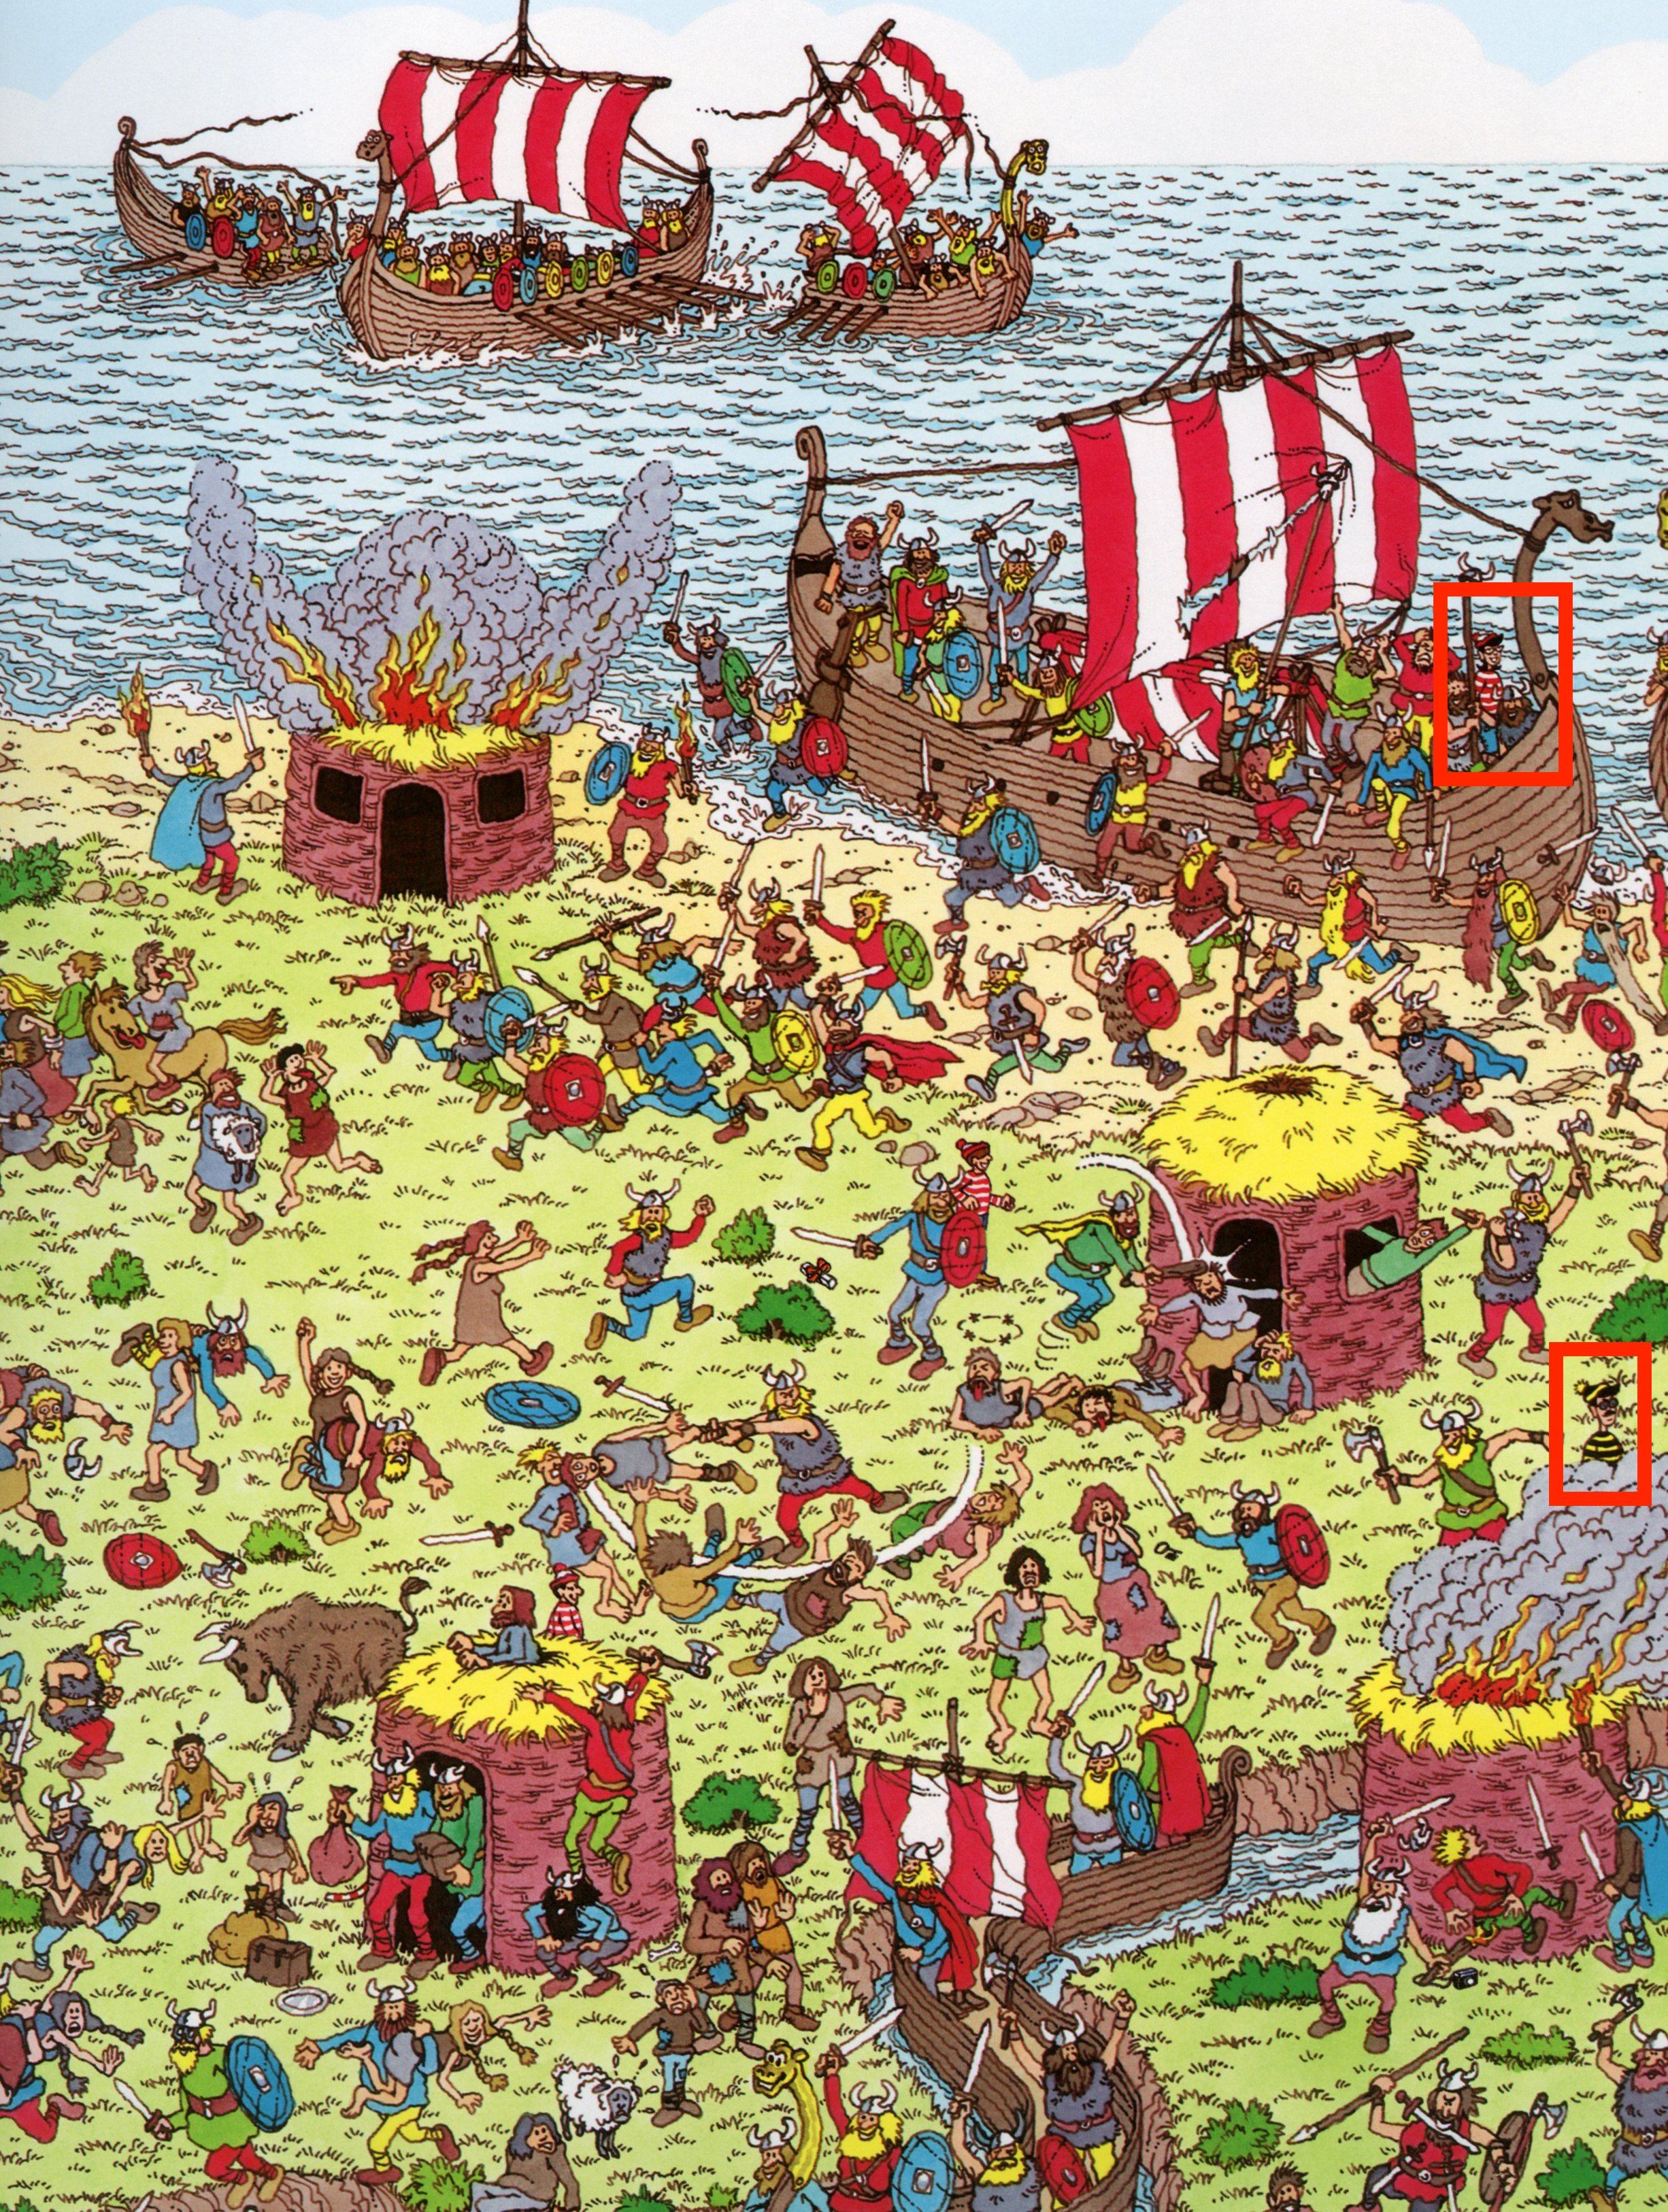odlaw: (1559, 1347, 1635, 1513)
waldo: (1447, 587, 1566, 816)
